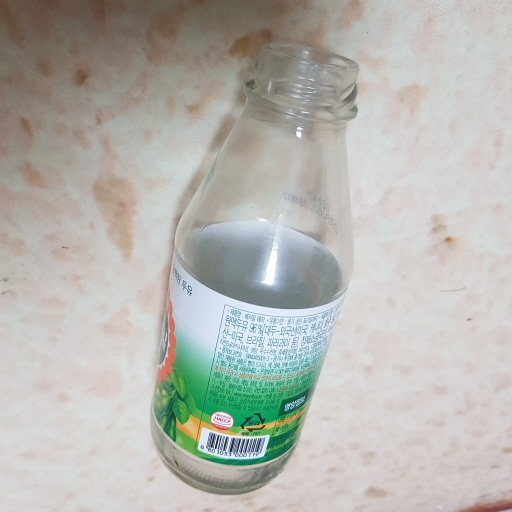Glass_4: (153, 36, 360, 498)
